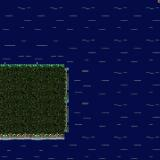Slow: (69, 0, 160, 159), (0, 0, 70, 62), (0, 141, 70, 160)
